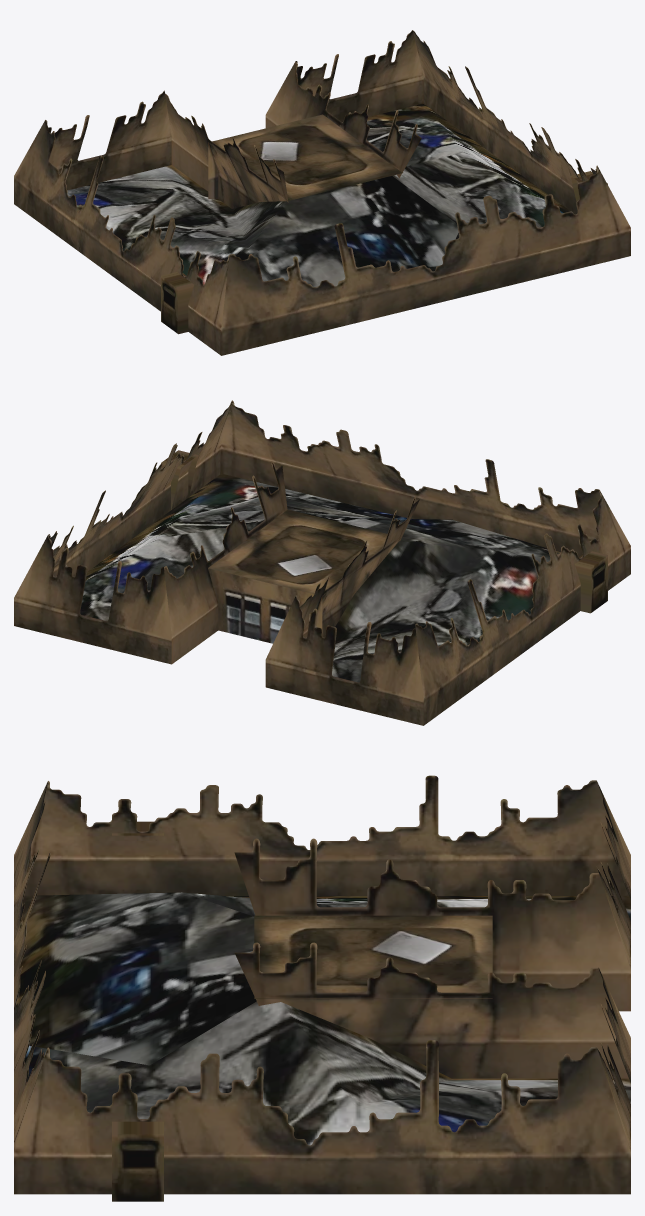
File: hpgoutbldg_dam_hdtex.glb
3 views of the same model, one above another, from view 1: azimuth 30°, elevation 25°; view 2: azimuth 150°, elevation 25°; view 3: azimuth 270°, elevation 25° (orthographic). The views are drawn at different scales.
Parts seen in each view (by area): view 1: Innards; view 2: Innards; view 3: Innards.
Boxes of the visible parts, left/top/right/bottom form: Innards: left=14, top=30, right=630, bottom=355; Innards: left=14, top=400, right=630, bottom=725; Innards: left=14, top=775, right=630, bottom=1201.
Size of the model in its own units: 24.2 by 5.86 by 20.23.
1 material, 1 textured.
